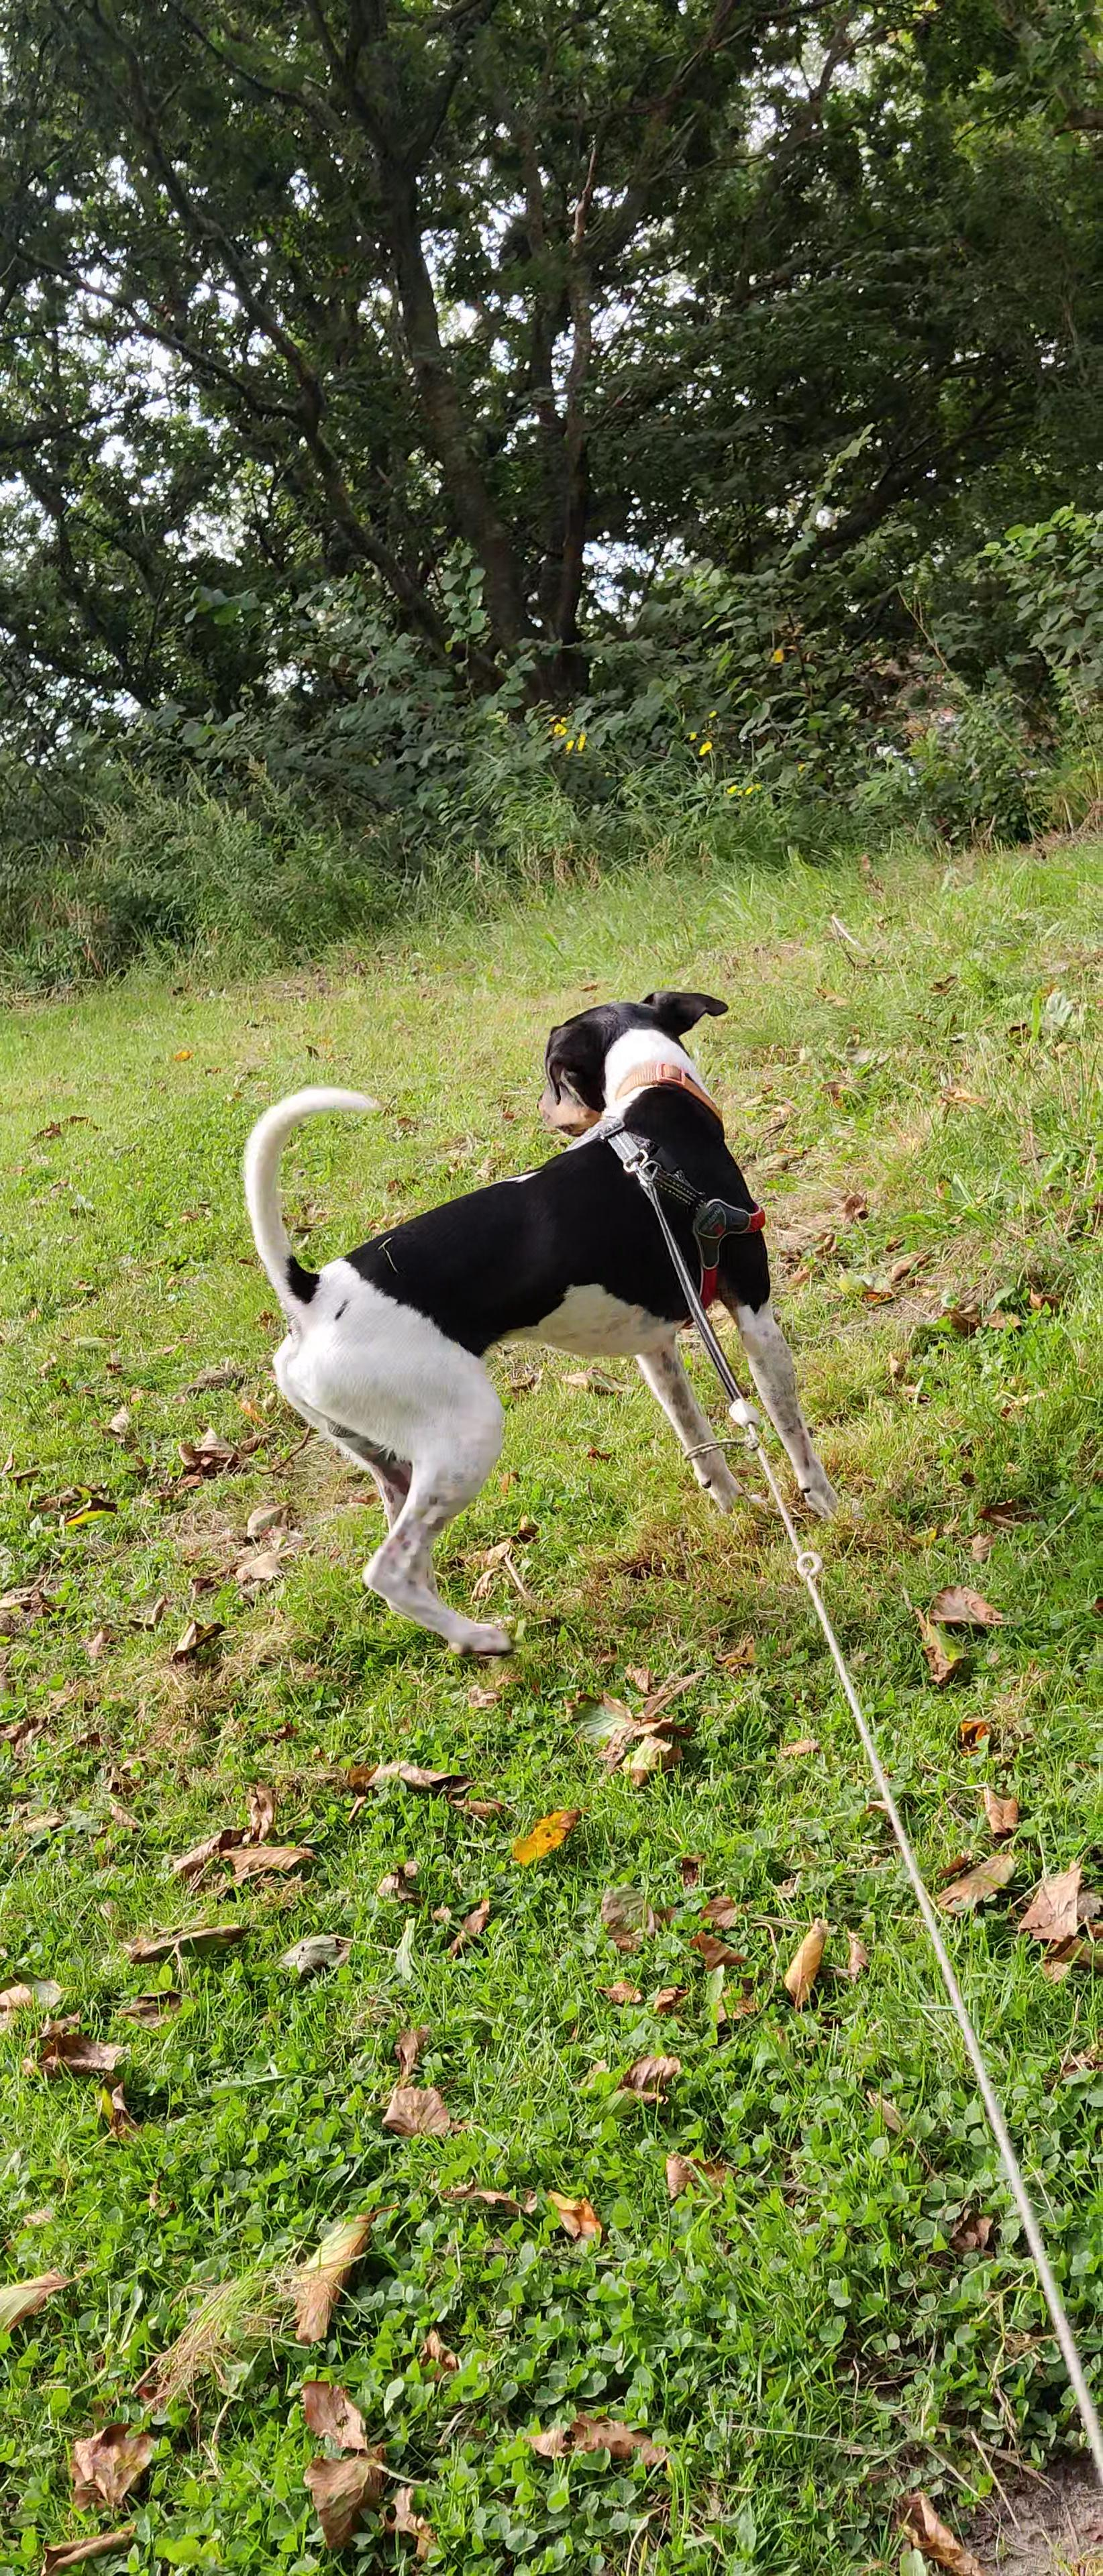Dog: (230, 986, 858, 1654)
